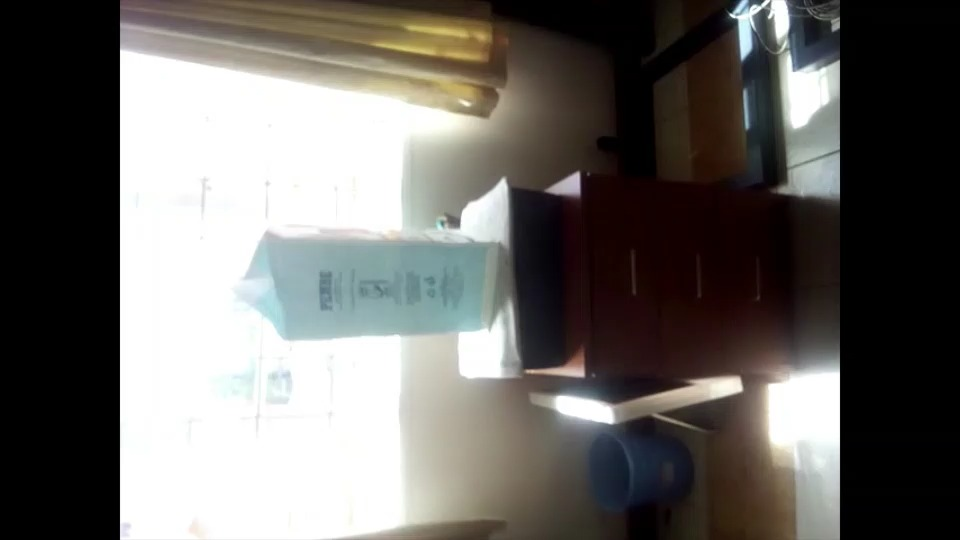wheat_flour_blue_label: (260, 227, 505, 329)
